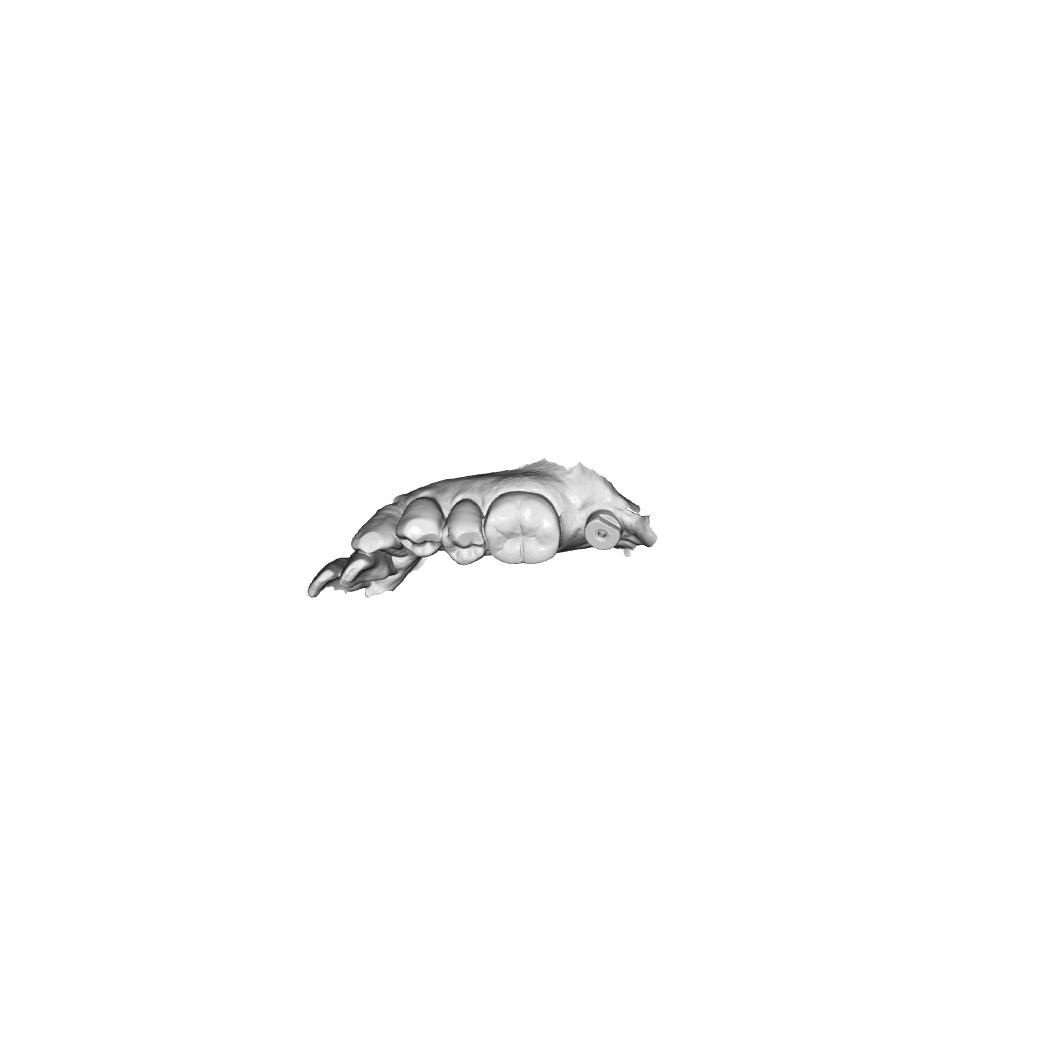canine: (349, 502, 408, 558)
implant: (583, 508, 624, 551)
incisor: (306, 557, 360, 600), (338, 552, 396, 590)
molar: (483, 491, 561, 565)
premolar: (441, 498, 487, 567), (394, 496, 445, 558)
